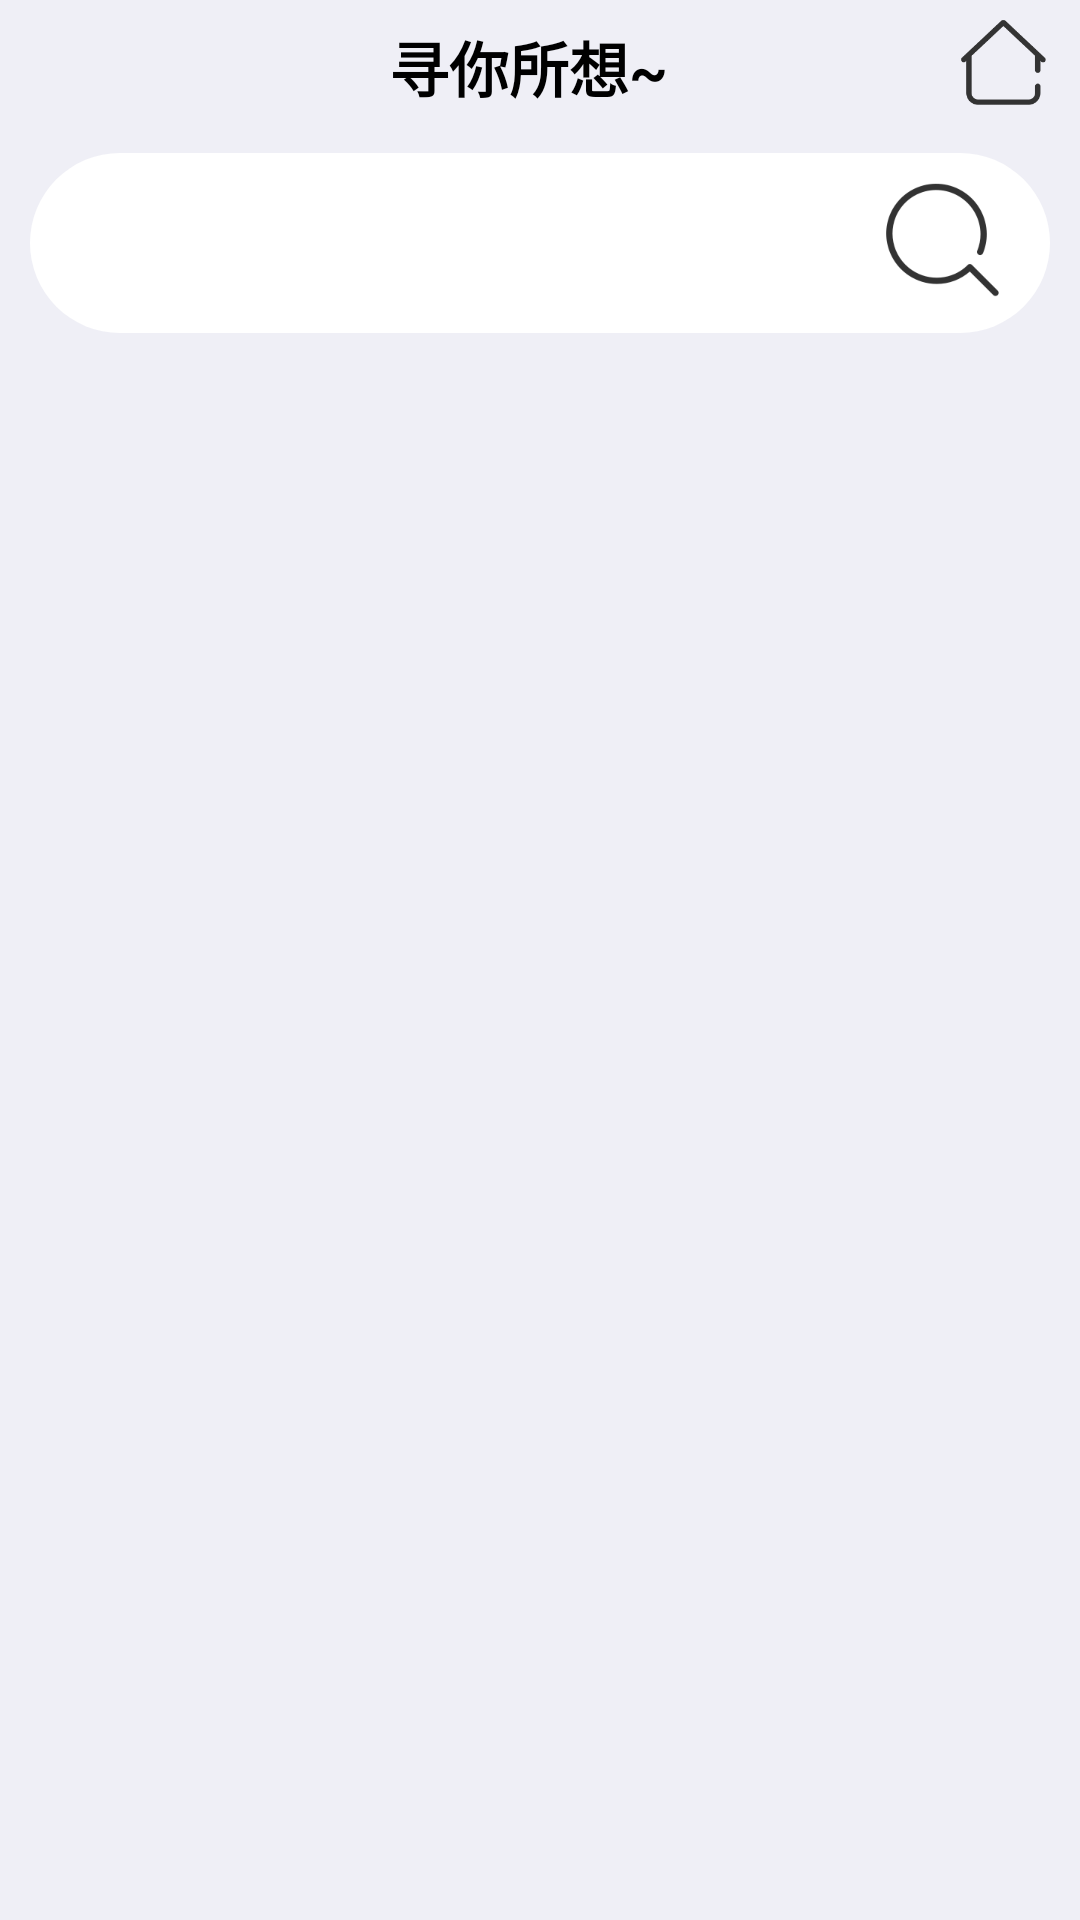

Icons on this 1080*1920 Android screen, each with its box as (x1, y1, x2, y2):
home: (961, 20, 1046, 105)
search: (886, 183, 999, 296)
